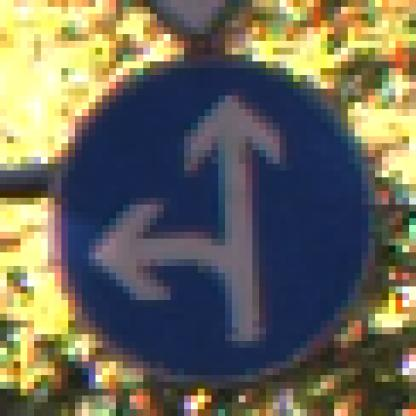Straight or Left: (42, 42, 383, 383)
